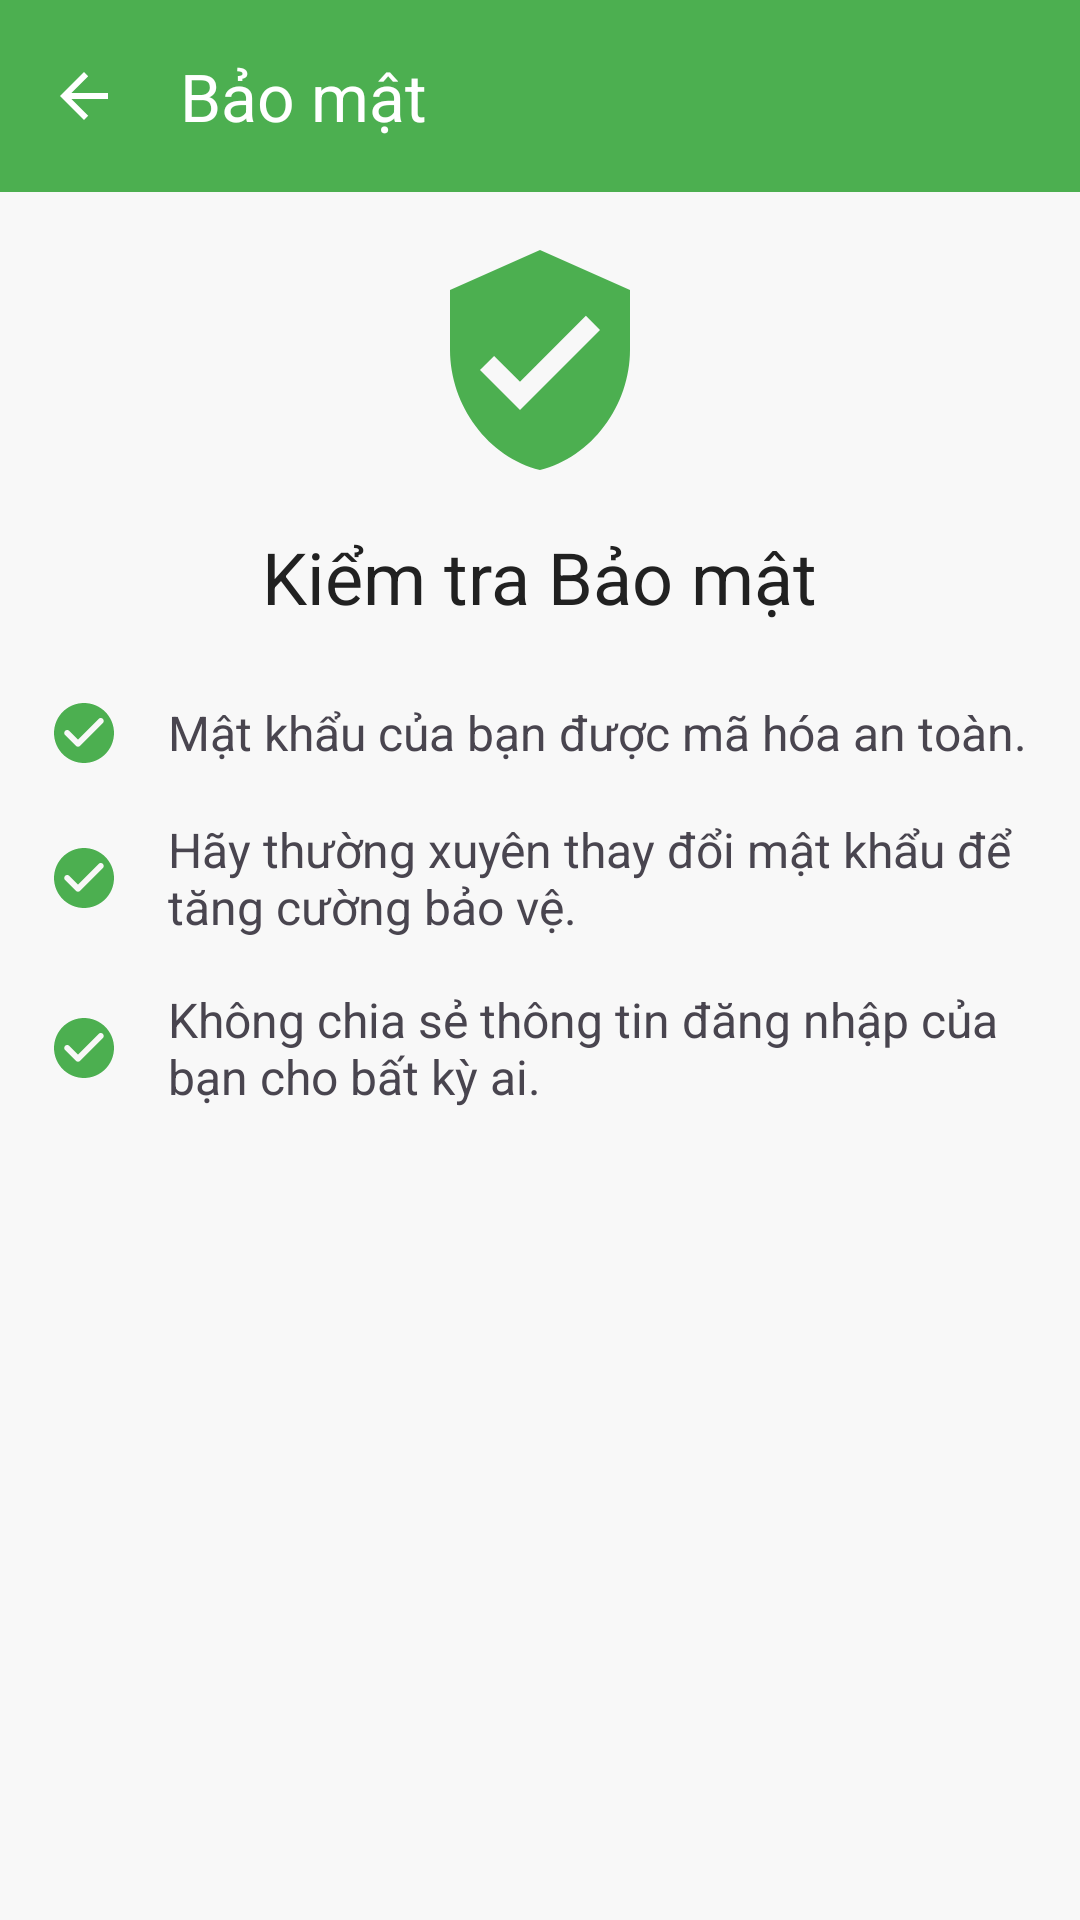

Screen size 1080×1920. Icon name, then its center in pixels as (x,y):
check circle: (84,733), (84,878), (84,1048)
security check: (540,360)
